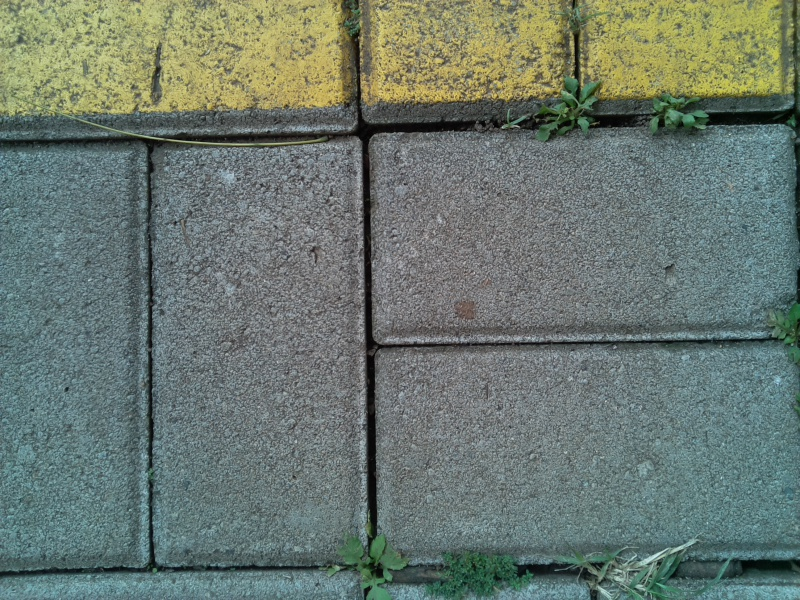Weed: (565, 529, 693, 600), (422, 548, 535, 600), (318, 528, 402, 597), (536, 69, 598, 144), (645, 87, 708, 139), (761, 289, 800, 370), (336, 1, 372, 50), (557, 4, 601, 43), (500, 107, 531, 137), (136, 457, 163, 491), (141, 557, 178, 577)
